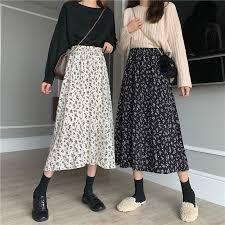skirt: (38, 46, 124, 174), (115, 46, 191, 176)
